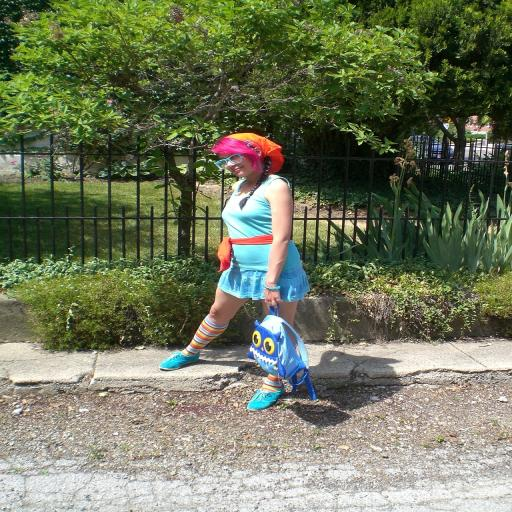Person: (169, 108, 345, 410)
goggles: (217, 151, 256, 178)
no_boots: (242, 360, 283, 423), (181, 332, 237, 375)
no_gloves: (255, 279, 281, 317)
none: (215, 170, 318, 306)
